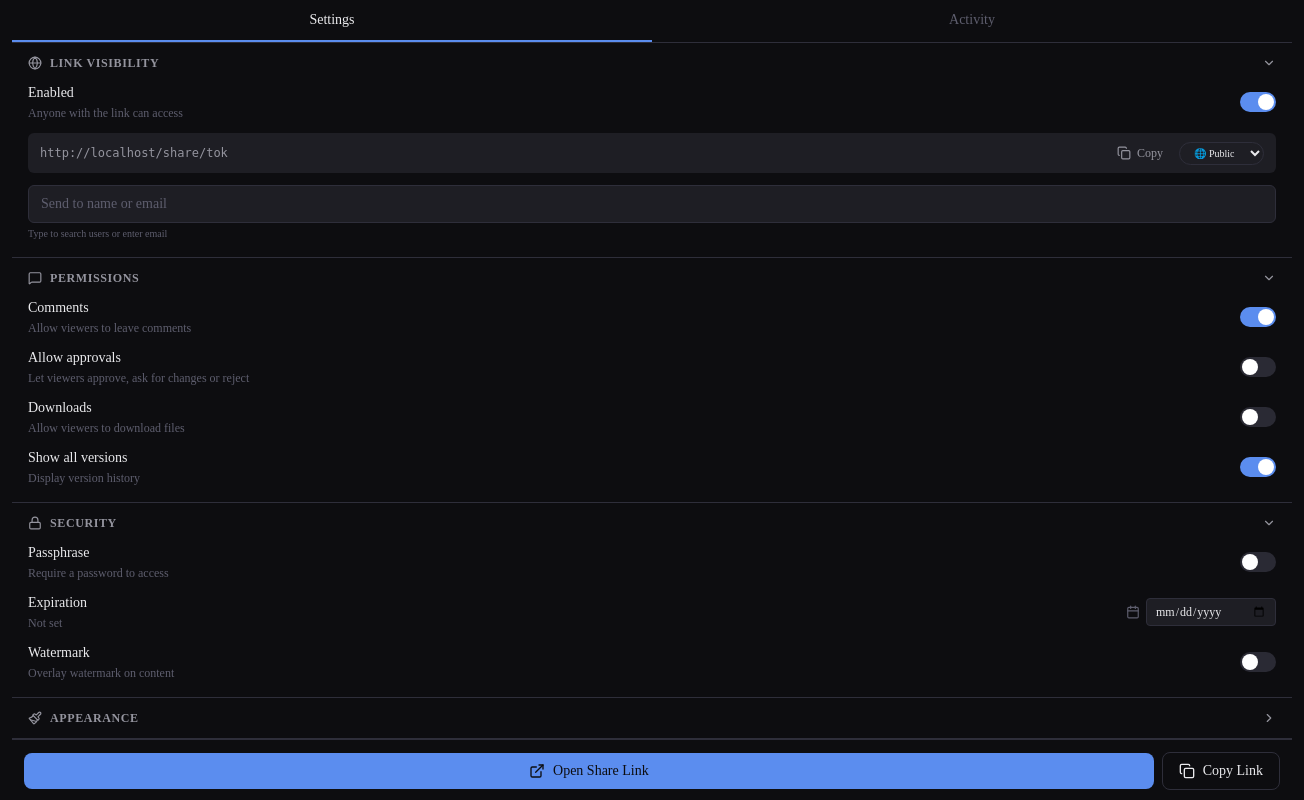
ShareLinkSettingsPanel appearance › an asset link offers only theme and accent
The width and height of the screenshot is (1304, 800).
Click the button "Appearance": (94, 718) [12,698,1292,738]
(page scrolled)
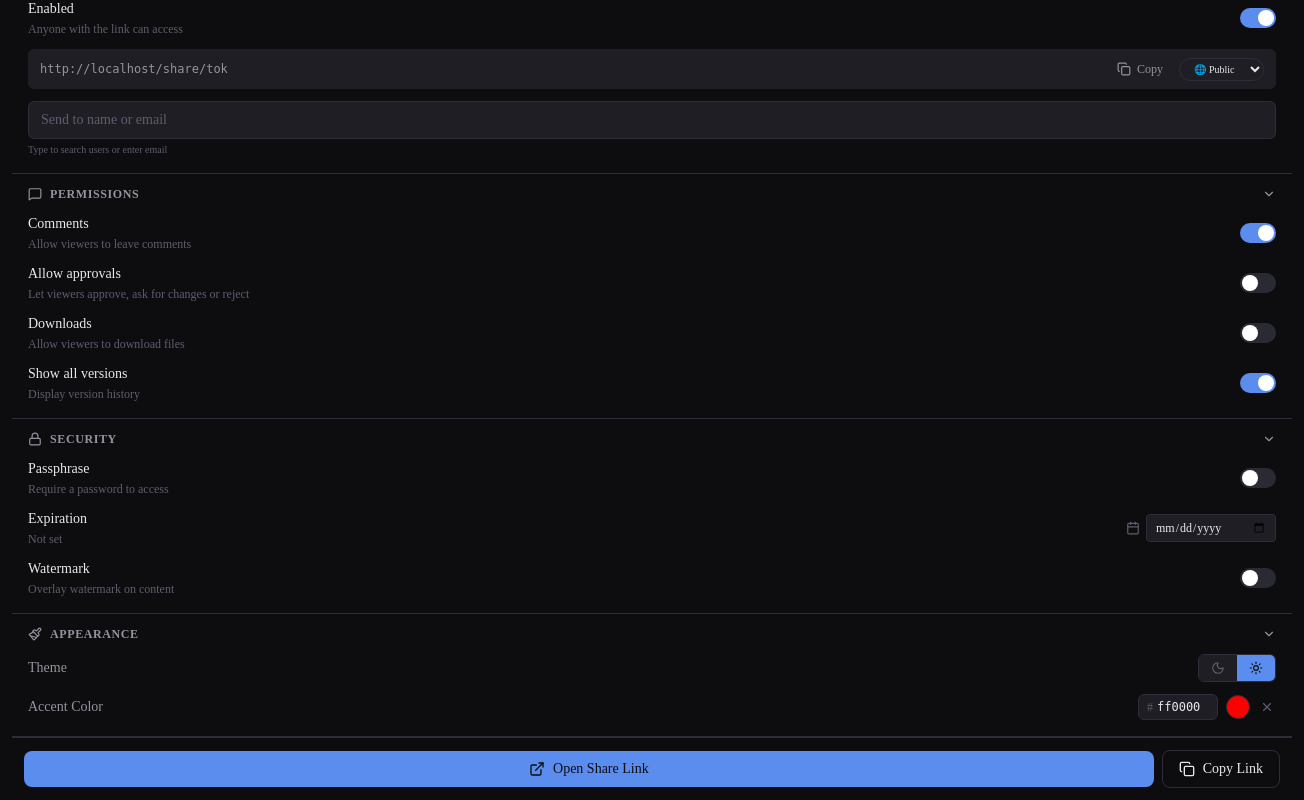
Now the button named "Light" is shown, box [1237,655,1275,681]
Now the field named "Accent colour hex" is shown, box [1153,695,1217,719]
